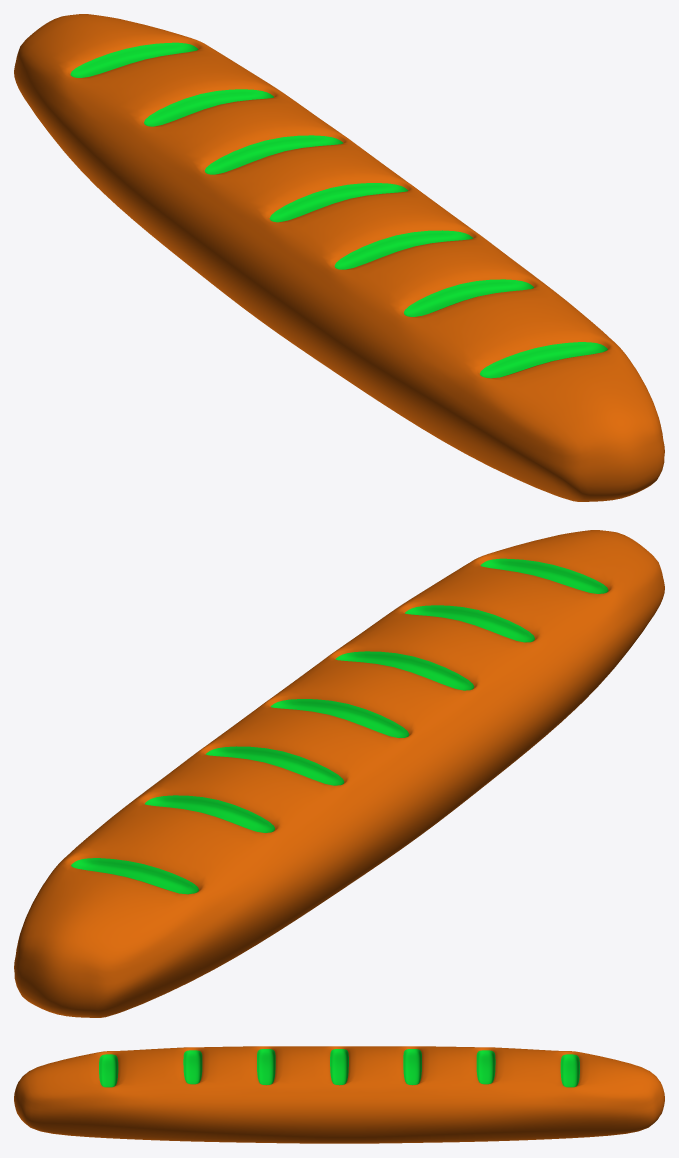
File: long_bread.fbx
3 views of the same model, one above another, from view 1: azimuth 30°, elevation 25°; view 2: azimuth 150°, elevation 25°; view 3: azimuth 270°, elevation 25° (orthographic). The views are drawn at different scales.
Parts seen in each view (by area): view 1: Cube.020; view 2: Cube.020; view 3: Cube.020.
Part boxes in pixels (<box>): Cube.020: <box>14,14,664,501</box>; Cube.020: <box>14,530,664,1017</box>; Cube.020: <box>14,1046,664,1143</box>.
Bounding box in the file's own units: 39.91 × 22.96 × 201.
